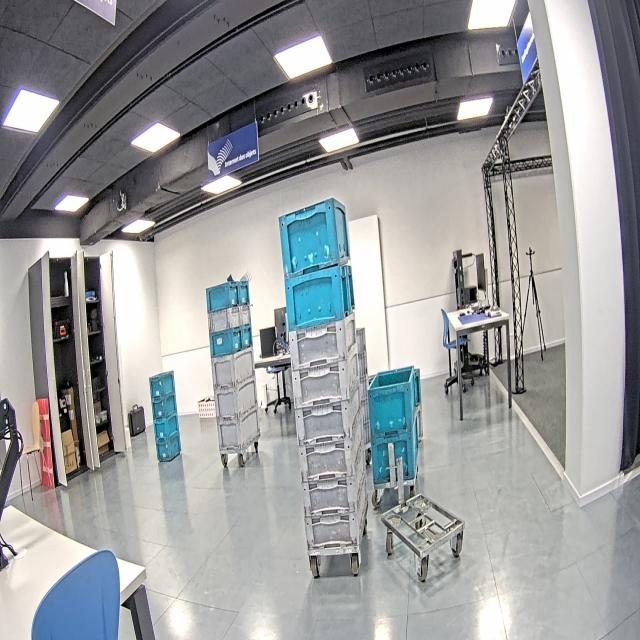Box3G: (288, 319, 348, 362), (292, 402, 354, 439), (298, 439, 356, 478), (304, 514, 359, 553), (290, 365, 351, 399), (301, 477, 357, 513)
Box4G: (217, 406, 259, 452), (213, 376, 257, 418), (212, 347, 255, 388)
Box8G: (207, 307, 239, 331), (240, 305, 252, 327)
BoxB4: (279, 202, 340, 266), (282, 268, 346, 326), (368, 370, 417, 437), (372, 428, 418, 483)
BoxB8: (205, 282, 238, 313), (208, 330, 241, 353), (154, 438, 183, 462), (155, 410, 179, 437), (149, 372, 173, 394), (150, 396, 177, 415), (241, 322, 253, 348), (239, 280, 250, 305)
